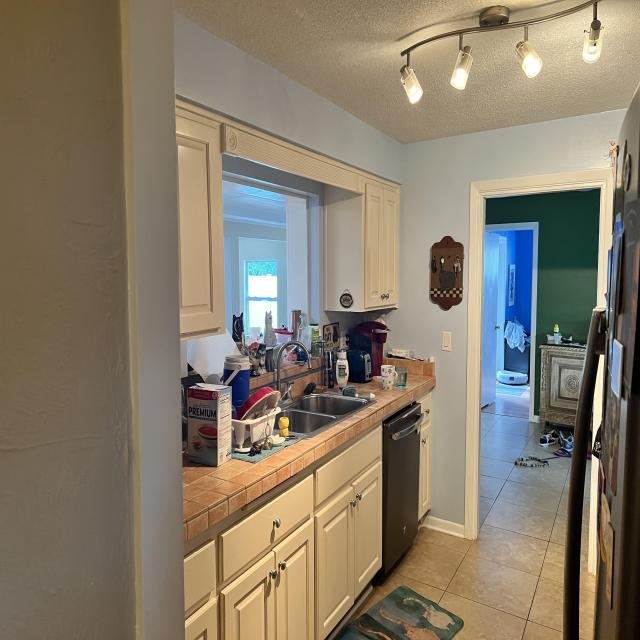Appliance_Dishwasher: (381, 402, 421, 579)
Appliance_Oven: (273, 341, 368, 432)
Appliance_Sink: (562, 85, 640, 640)
Cabinet_Flat: (183, 426, 382, 611), (418, 393, 432, 426)
Cabinet_Raised_Panel: (185, 456, 384, 640), (177, 99, 227, 340), (362, 181, 401, 312), (420, 423, 433, 520)
Countertop_Laminate: (185, 377, 435, 541)
